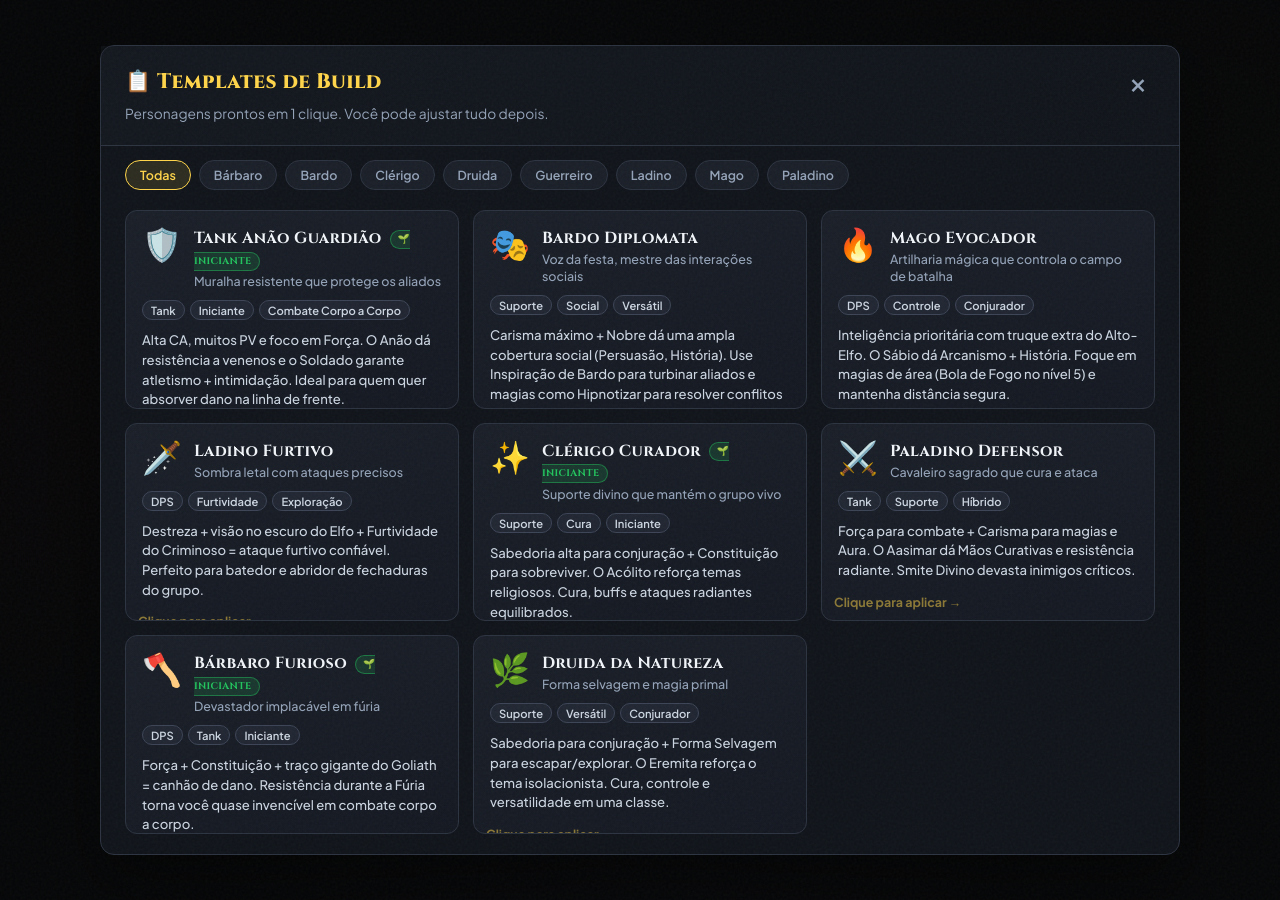
Test: BuildTemplatesModal — filtro por classe › ao clicar no chip de uma classe, mostra só os templates daquela classe
Click the button "Mago": coordinates (727, 175) [694,160,759,190]
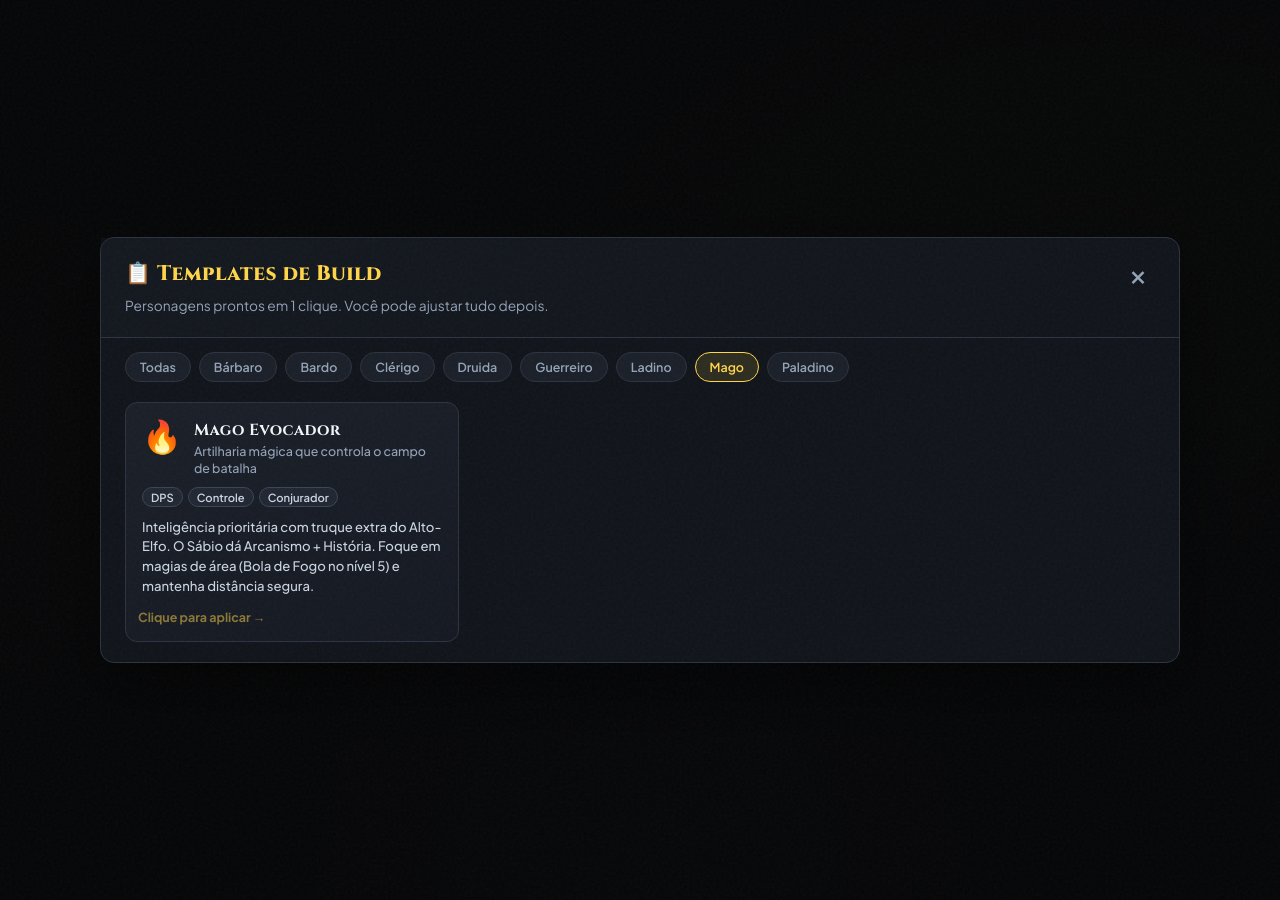
Expected: the button "Tank Anão Guardião" is gone
Expected: the button "Bardo Diplomata" is gone
Expected: the button "Ladino Furtivo" is gone
